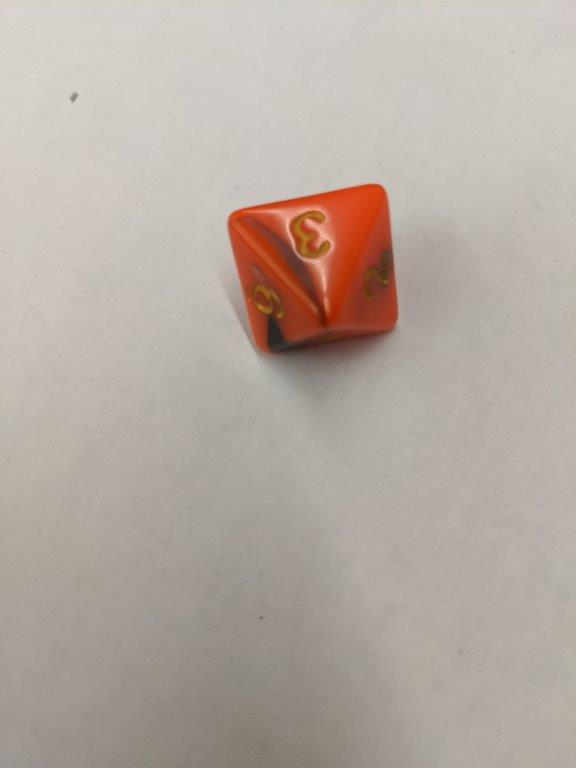d8-3: (228, 183, 401, 356)
